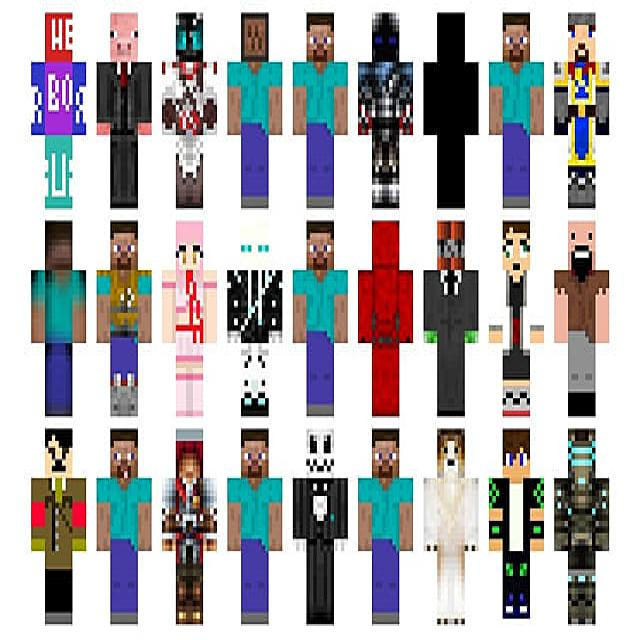Player: (95, 428, 152, 626), (96, 12, 152, 210), (554, 221, 610, 418), (97, 220, 152, 417), (489, 12, 544, 209), (162, 219, 217, 415), (31, 428, 86, 624), (293, 12, 348, 208), (489, 429, 545, 620)
